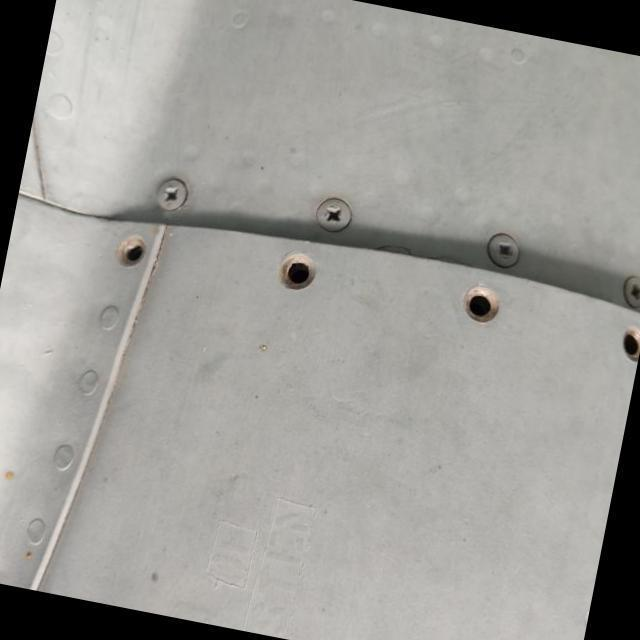Fastener Damage: (243, 228, 346, 331), (432, 258, 530, 360), (87, 203, 180, 296), (608, 309, 640, 375)
